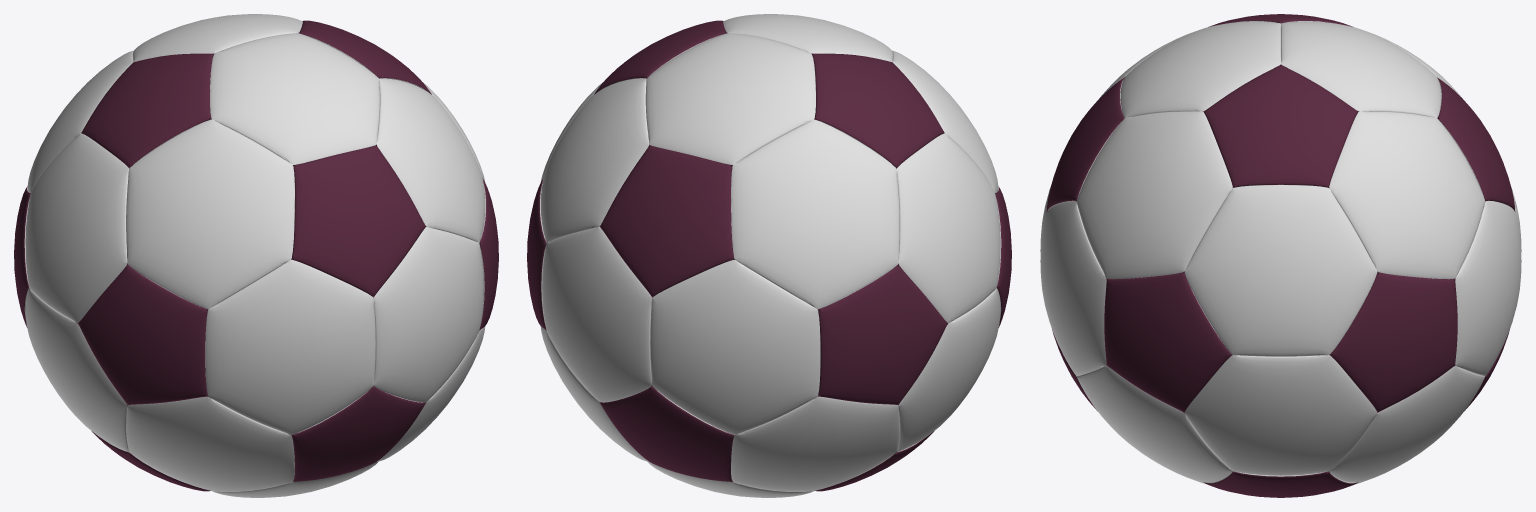
Rendered from ballon_t_.fbx.
The picture shows the model from 3 angles, left to right: view 1: azimuth 30°, elevation 25°; view 2: azimuth 150°, elevation 25°; view 3: azimuth 270°, elevation 25°; orthographic projection.
Visible parts, largest first — view 1: soccerball; view 2: soccerball; view 3: soccerball.
Boxes of the visible parts, x1=… form: soccerball: x1=14, y1=14, x2=498, y2=497; soccerball: x1=527, y1=14, x2=1011, y2=497; soccerball: x1=1040, y1=14, x2=1521, y2=497.
Bounding box in the file's own units: 44.13 × 44.13 × 44.13.
